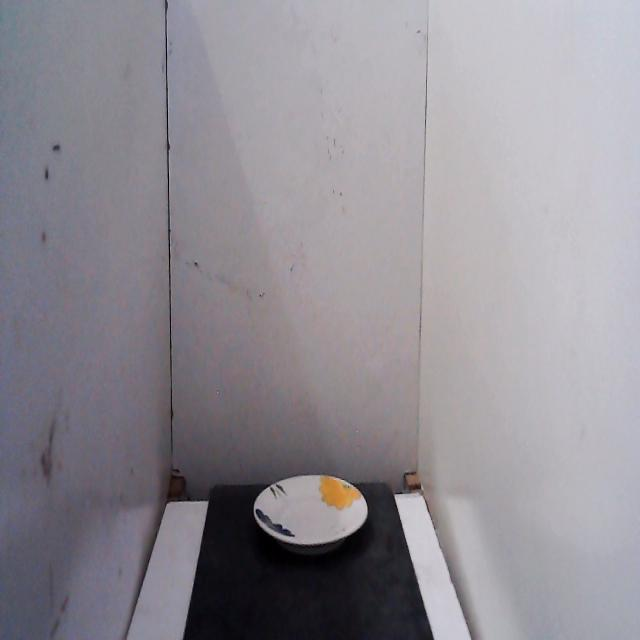vidro: (248, 452, 374, 564)
